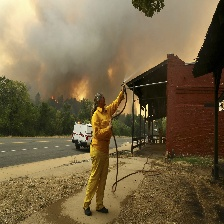fire: (50, 96, 59, 104)
smoke: (11, 2, 216, 88)
